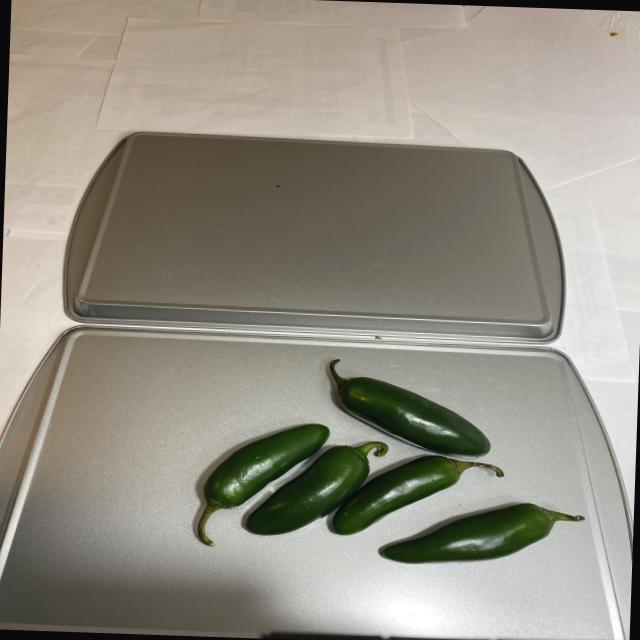chilli: (180, 356, 598, 574)
